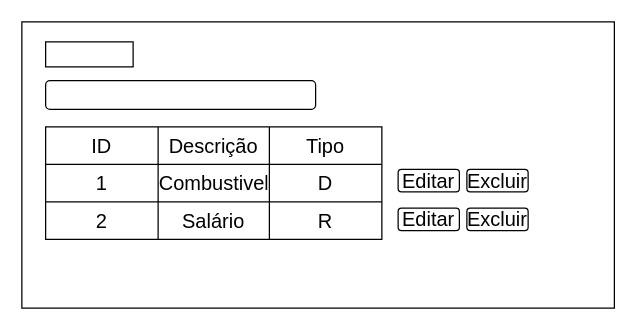
This 636x331 diagram has some shape labels left out. The centre of each missing label's shape, as x and y in pixels:
"Criar item de Palno de conta" belongs at point 180,94.
"Plano de contas" belongs at point 88,54.
